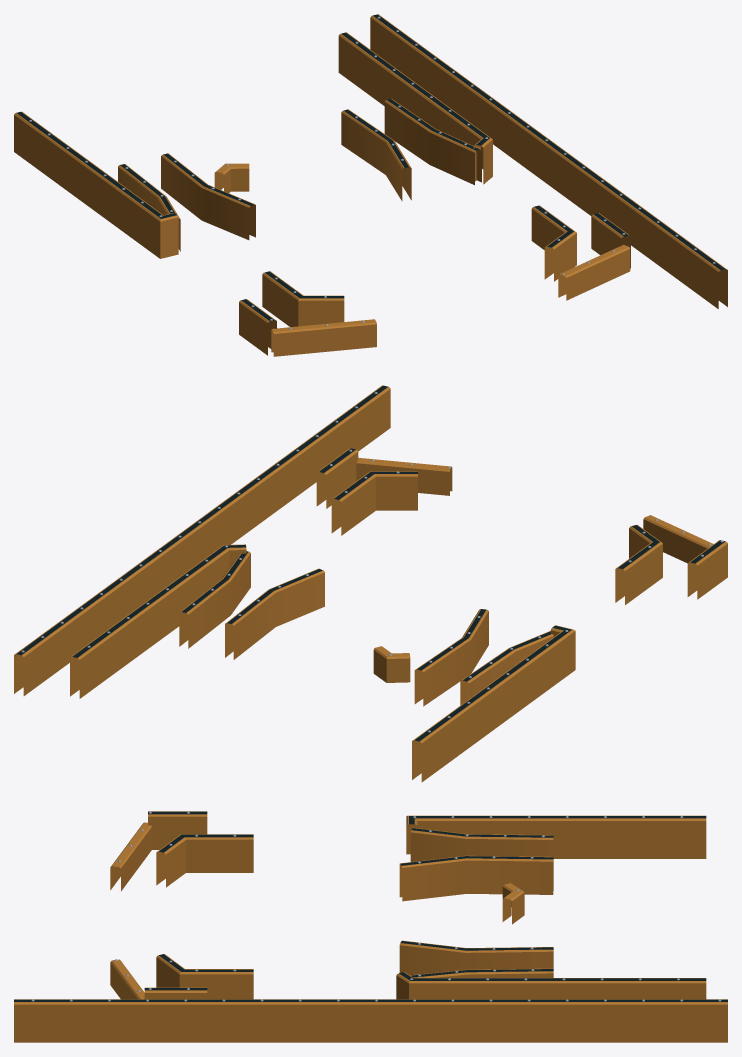
The model's file is aurora-walls.dae.
The picture shows the model from 3 angles, top to bottom: view 1: azimuth 30°, elevation 25°; view 2: azimuth 150°, elevation 25°; view 3: azimuth 270°, elevation 25°; orthographic projection. The views are drawn at different scales.
Visible parts, largest first — view 1: accent, wall_art; view 2: accent, wall_art; view 3: accent, wall_art, metal.
Part boxes in pixels (x1,y1,x2,y2): accent: (14,14,727,356); wall_art: (16,14,725,321); accent: (14,385,727,782); wall_art: (16,385,724,741); accent: (14,811,727,1042); wall_art: (14,811,727,1001); metal: (31,811,721,1001).
Bounding box in the file's own units: 0.857 × 0.0822 × 1.31.
